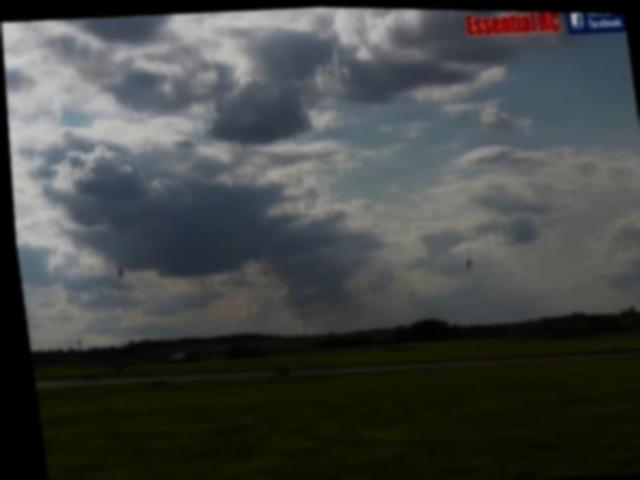uav: (455, 250, 475, 270), (107, 262, 125, 282)
